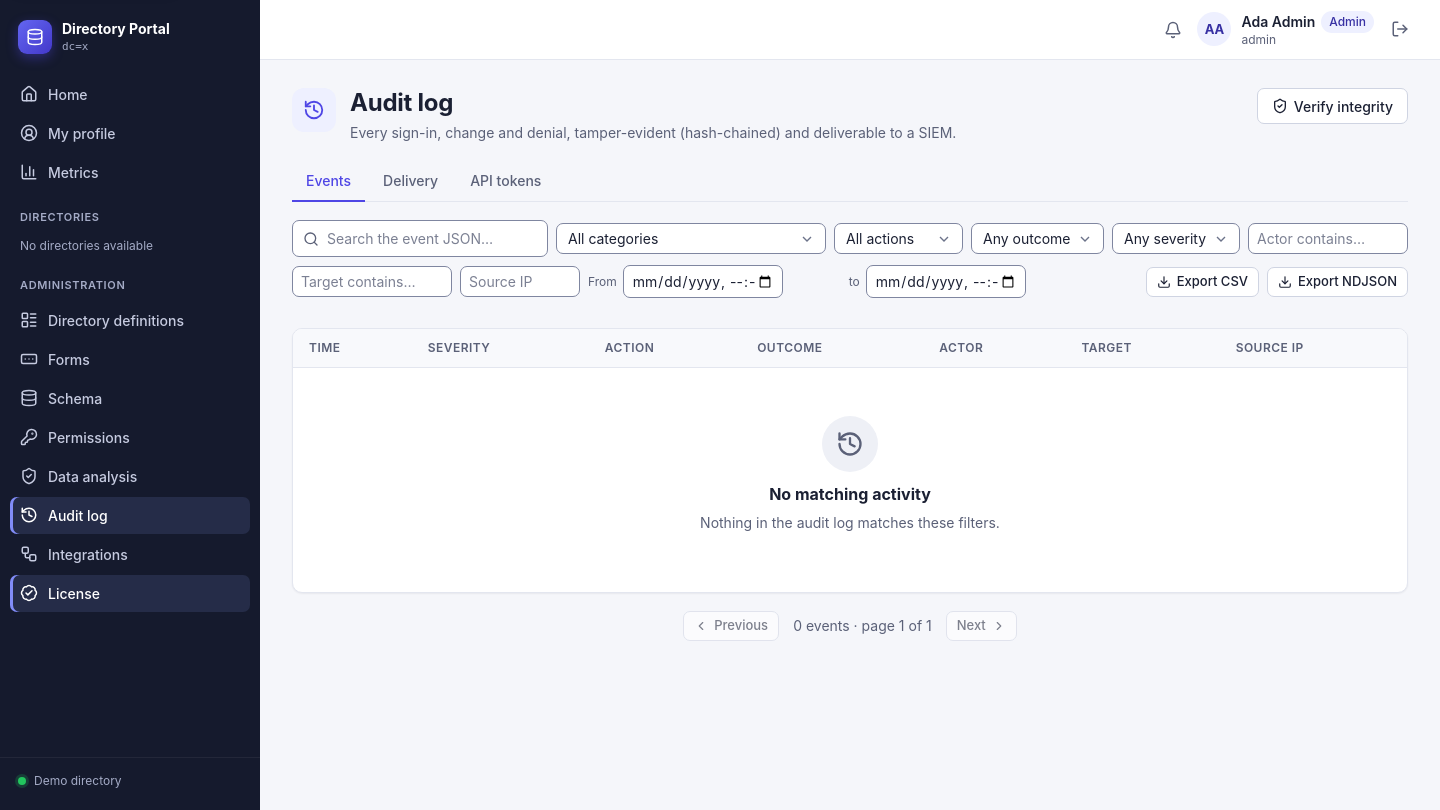
Test: audit log page › shows delivery status per output and the retention setting
Step 1. Click the tab "Delivery" → (411,182), box [369,161,452,202]
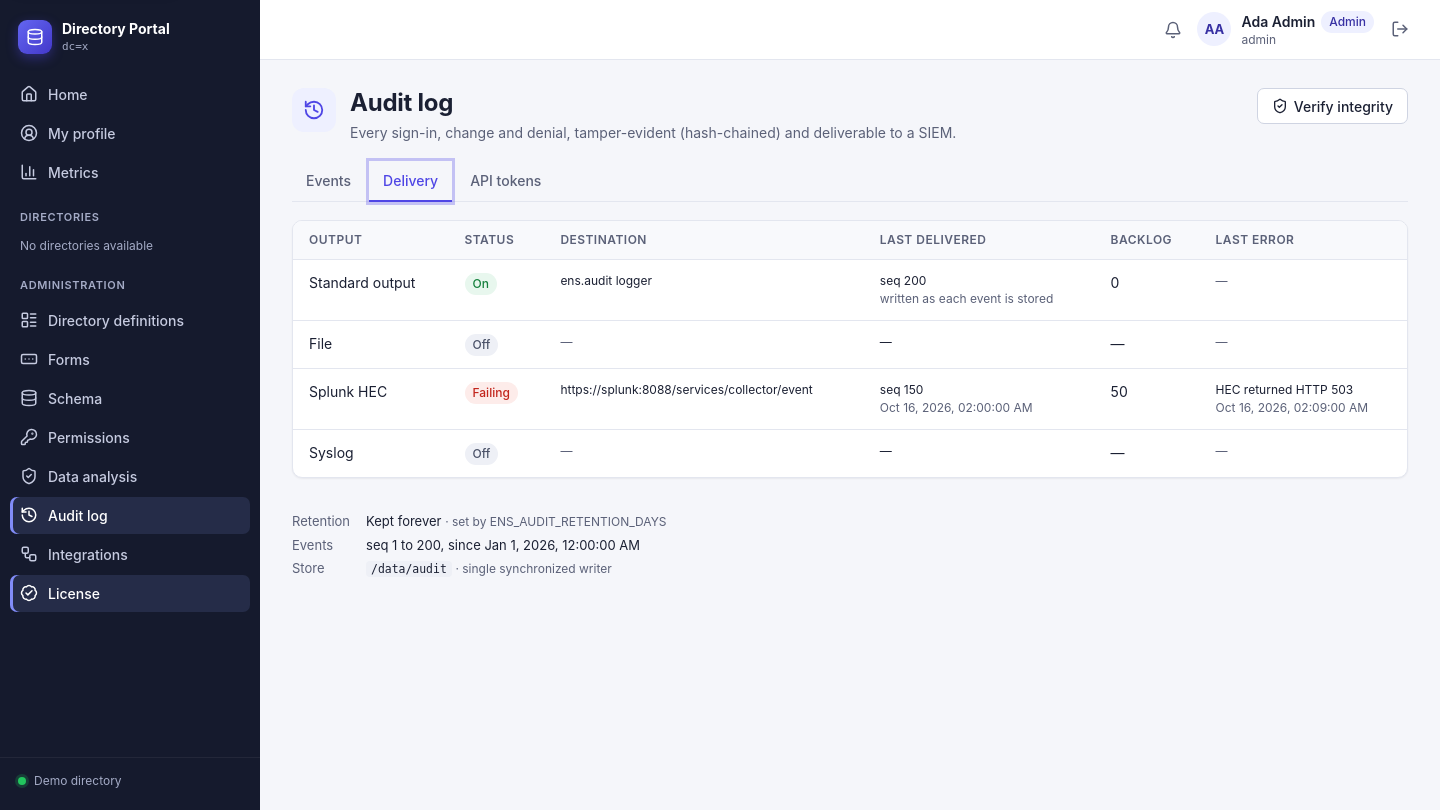
Result: the text "Failing" is shown at [464,382,518,404]
Result: the text "50" is shown at [1095,368,1200,430]
Result: the text "HEC returned HTTP 503" is shown at [1216,382,1353,397]
